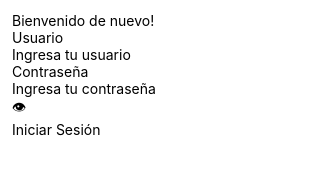
Test: LoginScreen - Comprehensive Test Suite › ✅ Validaciones de login › muestra error cuando se intenta hacer login sin usuario ni contraseña
This screenshot has width=332, height=172.
What coordinates should you click on to do the following:
click the button with test id "login-button"
I would click on:
 (121, 130)
Its box is [12,121,230,138].
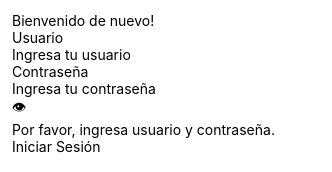
Expected: the text "Por favor, ingresa usuario y contraseña." is shown, [12,121,275,138]
